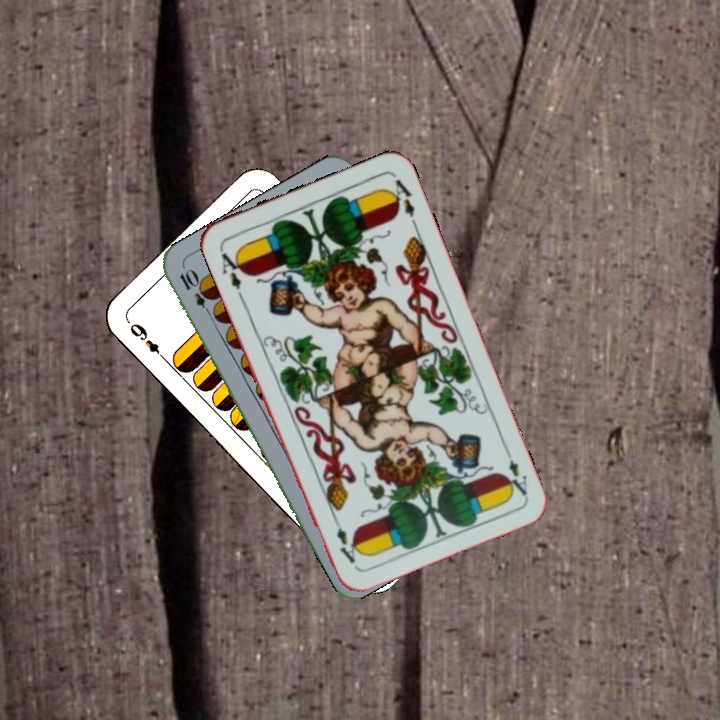E10: (175, 265, 217, 320)
E9: (125, 318, 170, 365)
EA: (499, 443, 530, 499), (216, 245, 248, 293)
